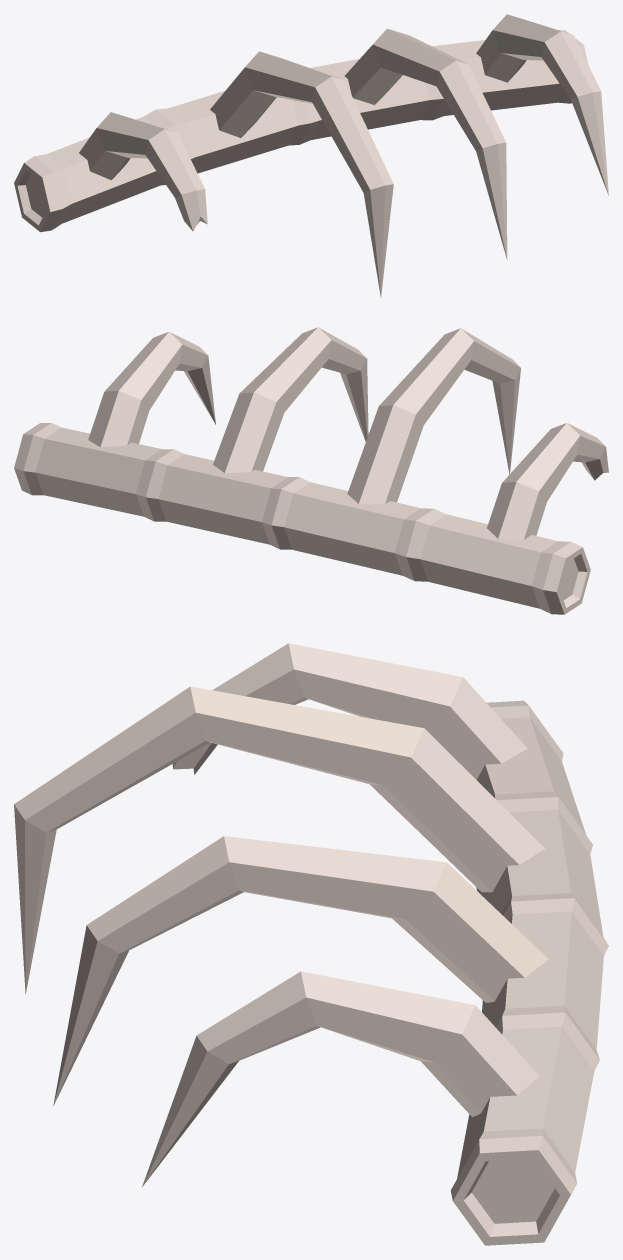
Rendered from Isl_4_Bones_2.fbx.
3 renders of one model, top to bottom at view 1: azimuth 30°, elevation 25°; view 2: azimuth 150°, elevation 25°; view 3: azimuth 270°, elevation 25°, orthographic. The views are drawn at different scales.
Visible parts, largest first — view 1: Isl_4_Bones_2; view 2: Isl_4_Bones_2; view 3: Isl_4_Bones_2.
Boxes of the visible parts, x1,y1,x2,y2 form: Isl_4_Bones_2: [14, 14, 608, 297]; Isl_4_Bones_2: [14, 327, 608, 614]; Isl_4_Bones_2: [14, 643, 608, 1245].
Size of the model in its own units: 208 by 118 by 68.22.
Materials: 1 (1 with a texture image).
